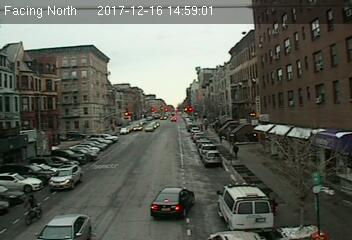bicycle: (23, 194, 43, 223)
car: (150, 186, 198, 219), (35, 213, 91, 240), (205, 151, 222, 167)
police: (216, 183, 277, 231)
